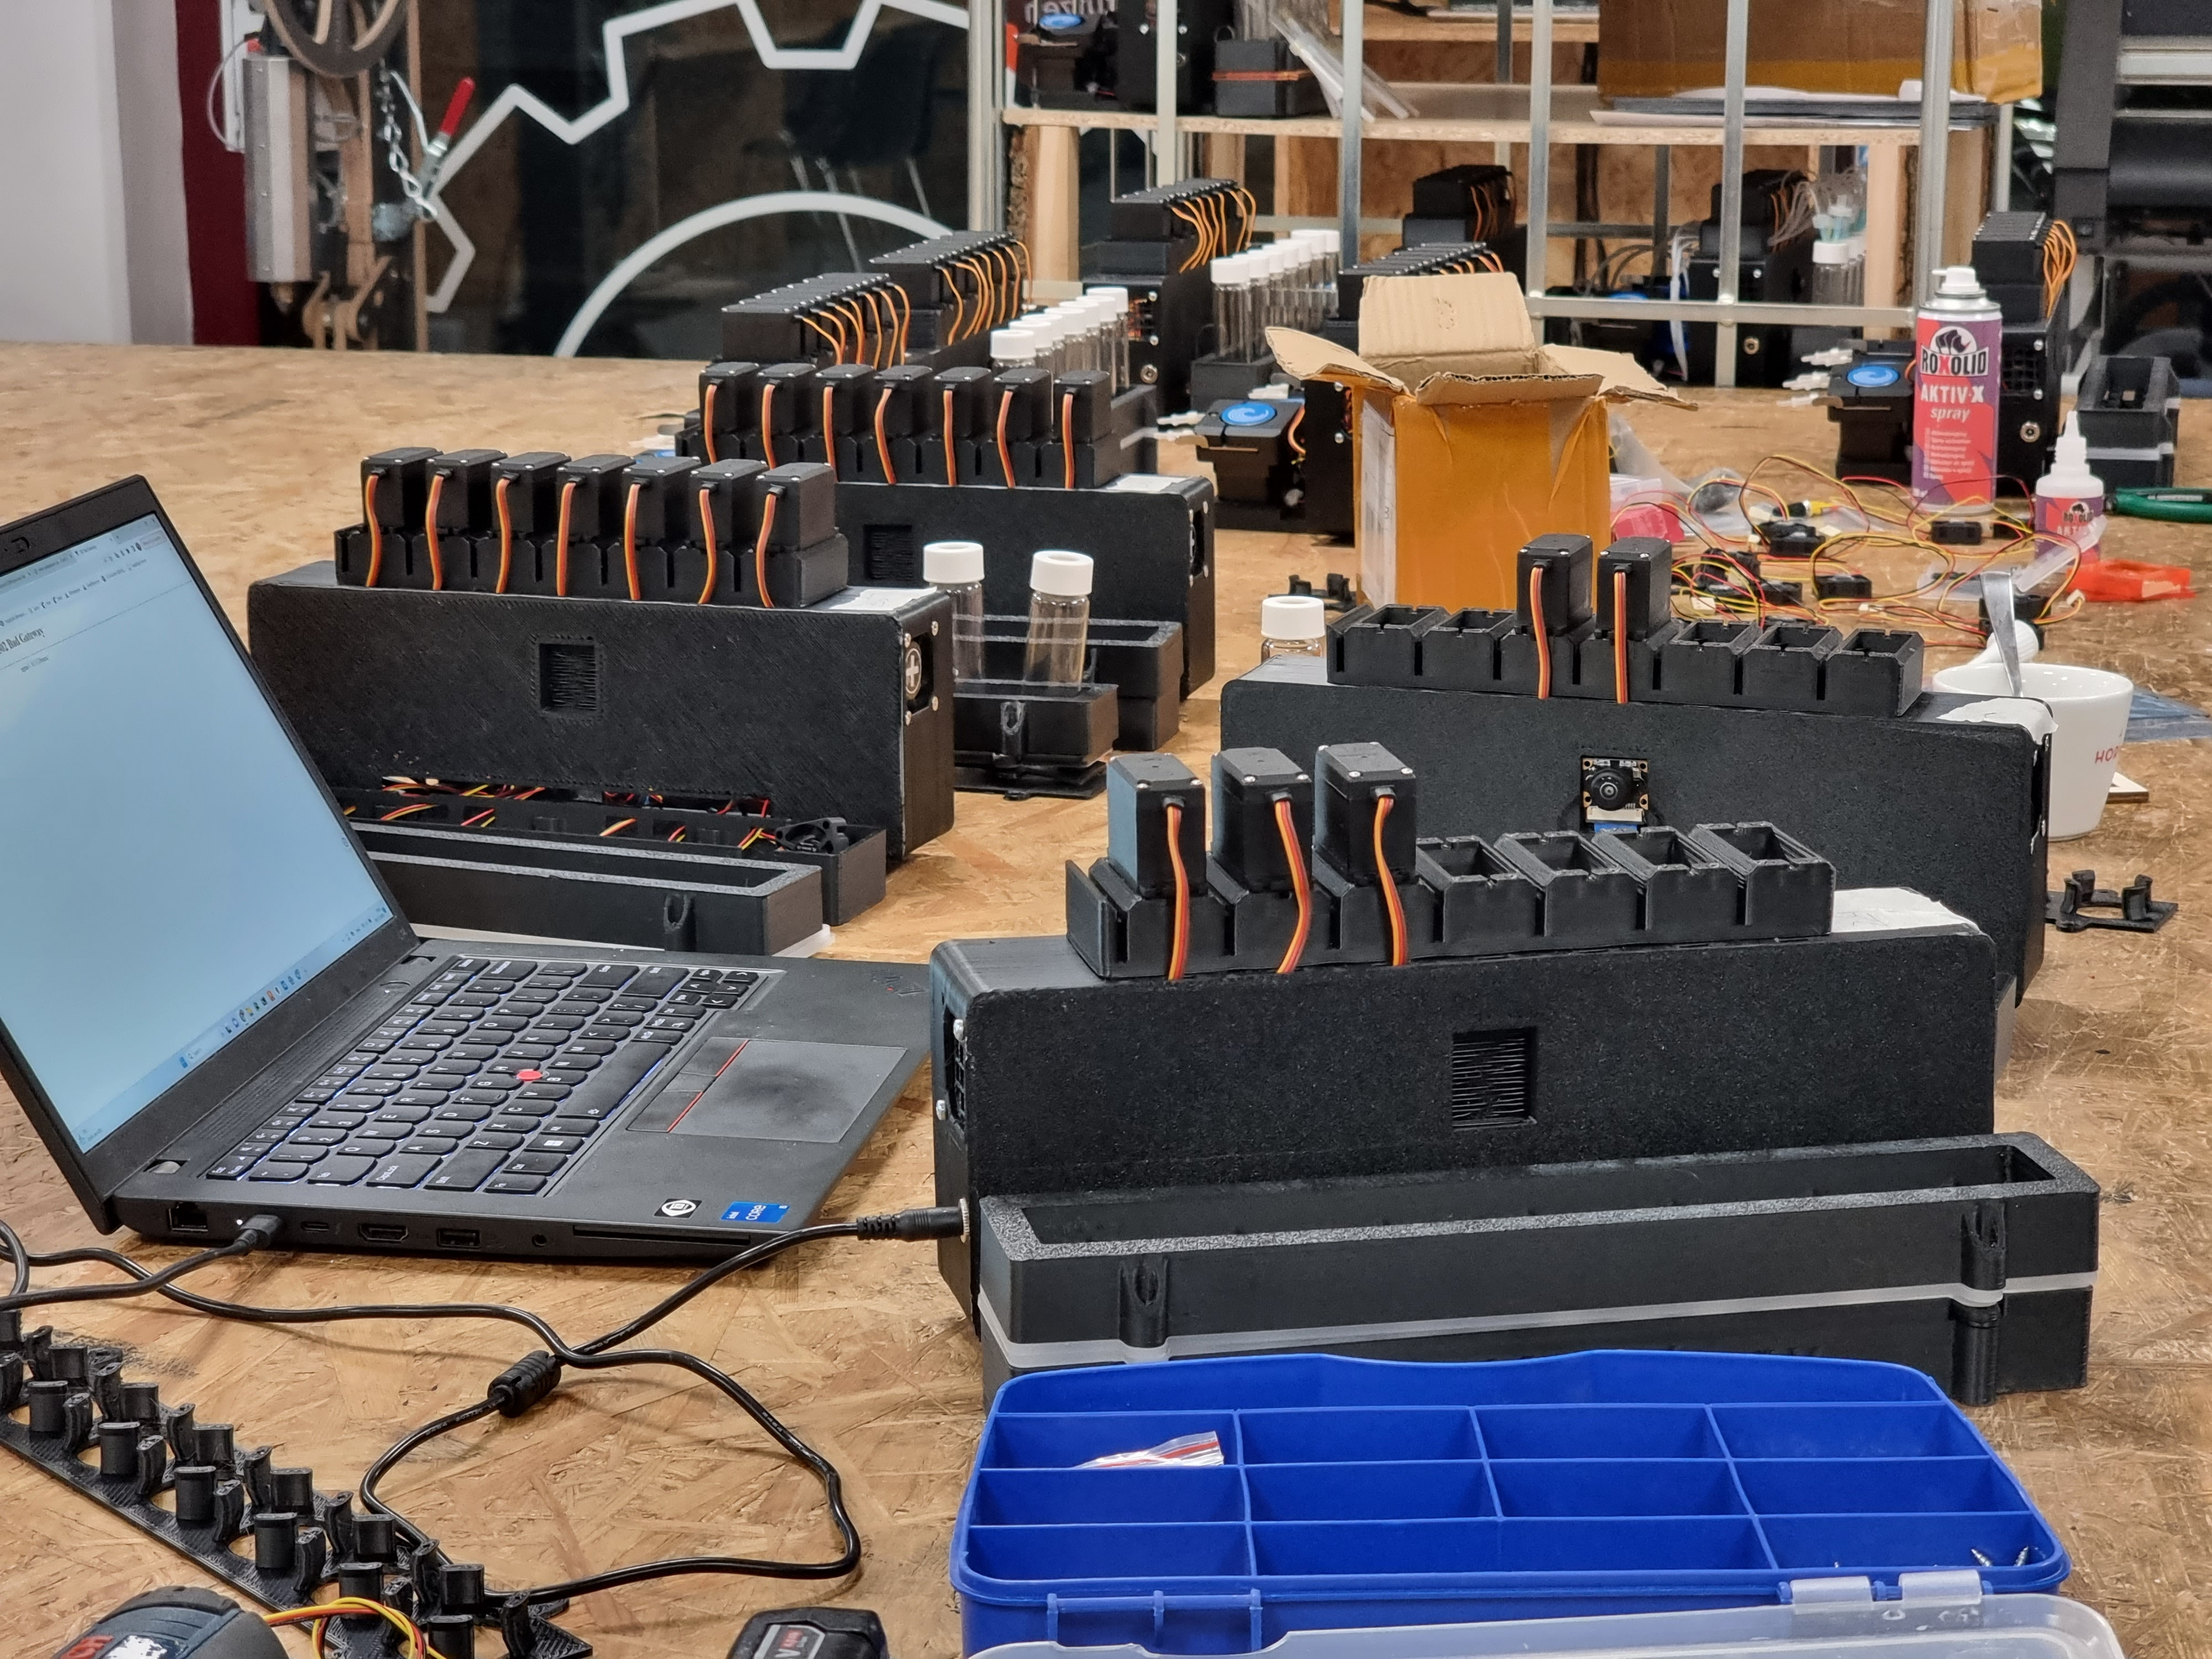vial: (920, 538, 988, 678), (1024, 544, 1090, 687), (1261, 592, 1325, 662), (1209, 260, 1252, 362), (1089, 286, 1130, 390), (1078, 296, 1118, 396), (1235, 254, 1268, 359), (1249, 247, 1282, 352), (1292, 228, 1324, 331), (1059, 301, 1101, 375), (1264, 244, 1296, 336), (1008, 319, 1057, 378), (1045, 307, 1089, 373), (1021, 312, 1066, 375), (1280, 240, 1310, 335), (1310, 228, 1339, 322), (991, 329, 1036, 375)
